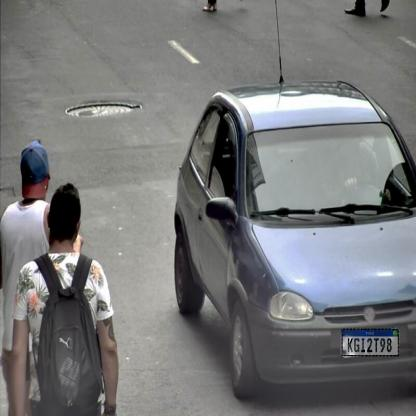PlacaM: (341, 329, 398, 356)
